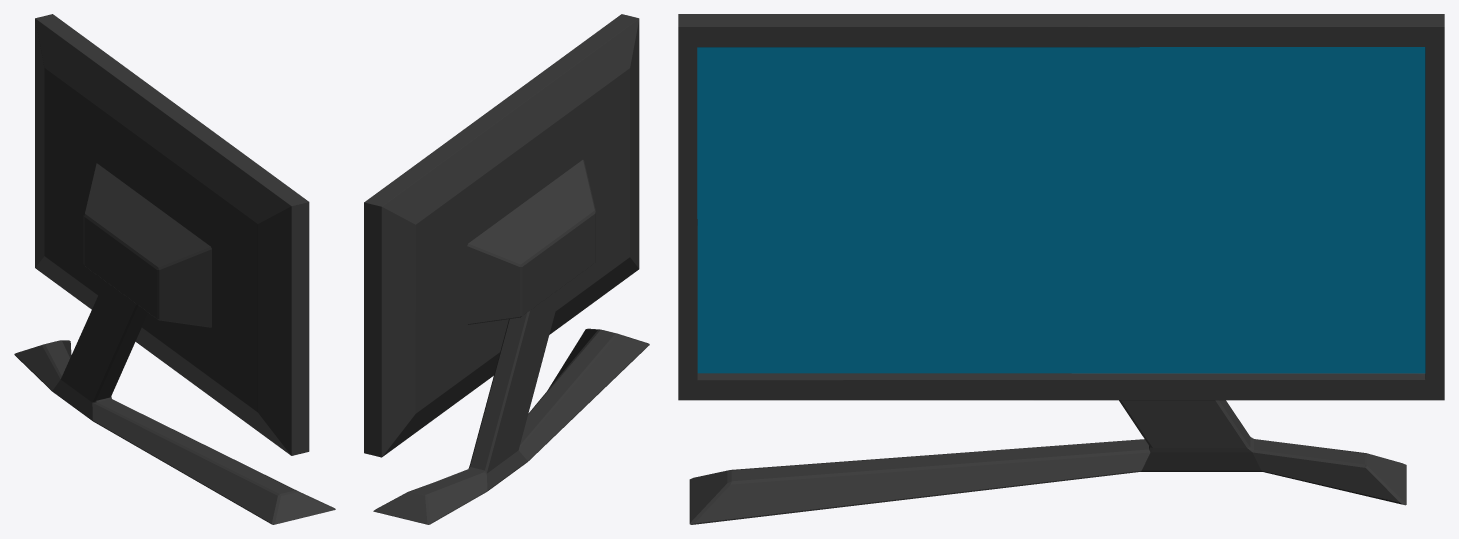
The model's file is SM_Display_03.fbx.
The picture shows the model from 3 angles, left to right: view 1: azimuth 30°, elevation 25°; view 2: azimuth 150°, elevation 25°; view 3: azimuth 270°, elevation 25°; orthographic projection. The views are drawn at different scales.
Visible parts, largest first — view 1: SM_Display_03; view 2: SM_Display_03; view 3: SM_Display_03.
Boxes of the visible parts, x1,y1,x2,y2 form: SM_Display_03: [14, 14, 335, 524]; SM_Display_03: [364, 14, 649, 524]; SM_Display_03: [678, 14, 1444, 524].
Size of the model in its own units: 18.54 by 87.43 by 59.88.
Materials: 1 (1 with a texture image).
